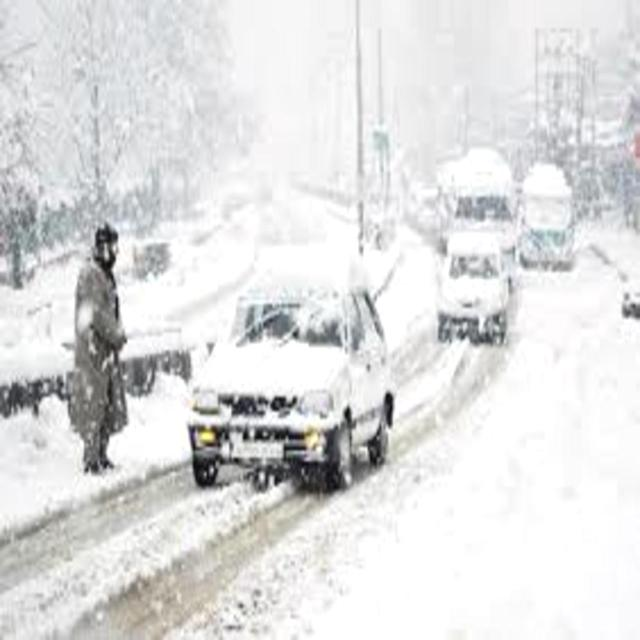Car: (185, 282, 399, 486), (435, 232, 511, 342)
